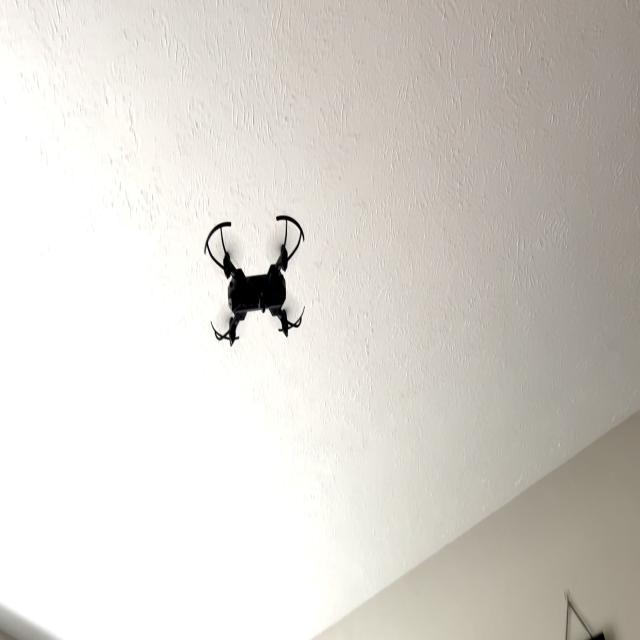drone: (197, 197, 314, 356)
